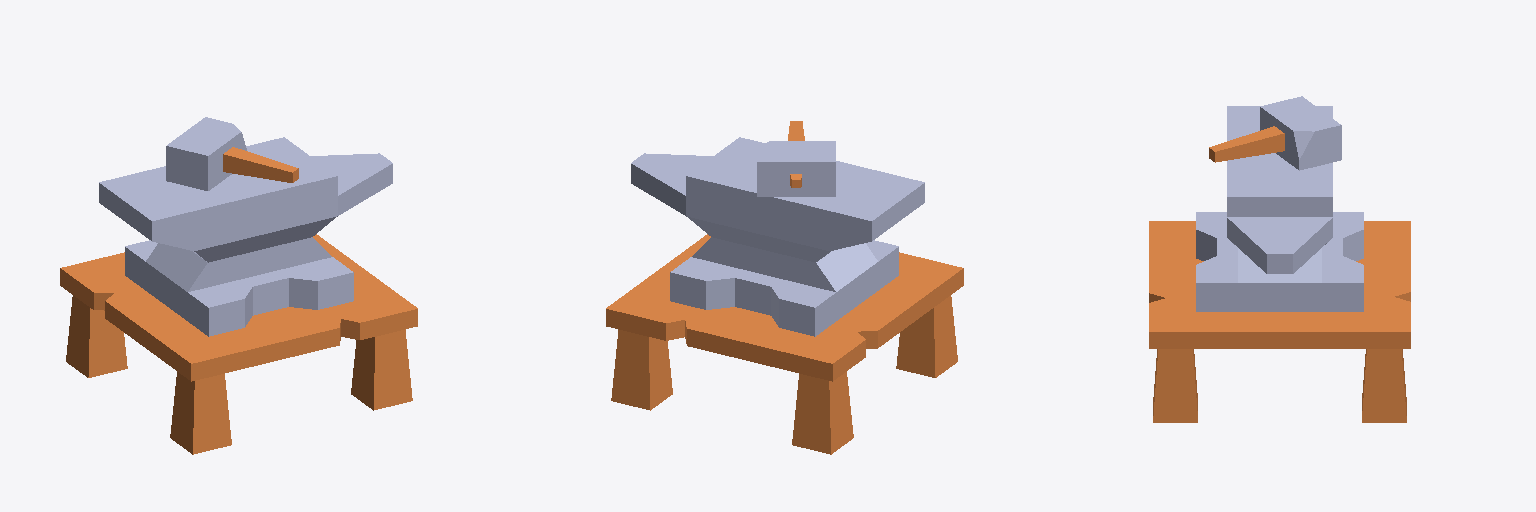
Rendered from workbenchAnvil.obj.
The picture shows the model from 3 angles: view 1: azimuth 30°, elevation 25°; view 2: azimuth 150°, elevation 25°; view 3: azimuth 270°, elevation 25°; orthographic projection.
Parts seen in each view (by area): view 1: workbenchAnvil, hammer; view 2: workbenchAnvil, hammer; view 3: workbenchAnvil, hammer.
Part boxes in pixels (x1,y1,x2,y2): workbenchAnvil: (60, 137, 417, 454); hammer: (166, 117, 298, 190); workbenchAnvil: (606, 137, 963, 454); hammer: (757, 121, 835, 196); workbenchAnvil: (1149, 106, 1410, 422); hammer: (1209, 96, 1341, 170).
Bounding box in the file's own units: 0.3092 × 0.2745 × 0.2688.